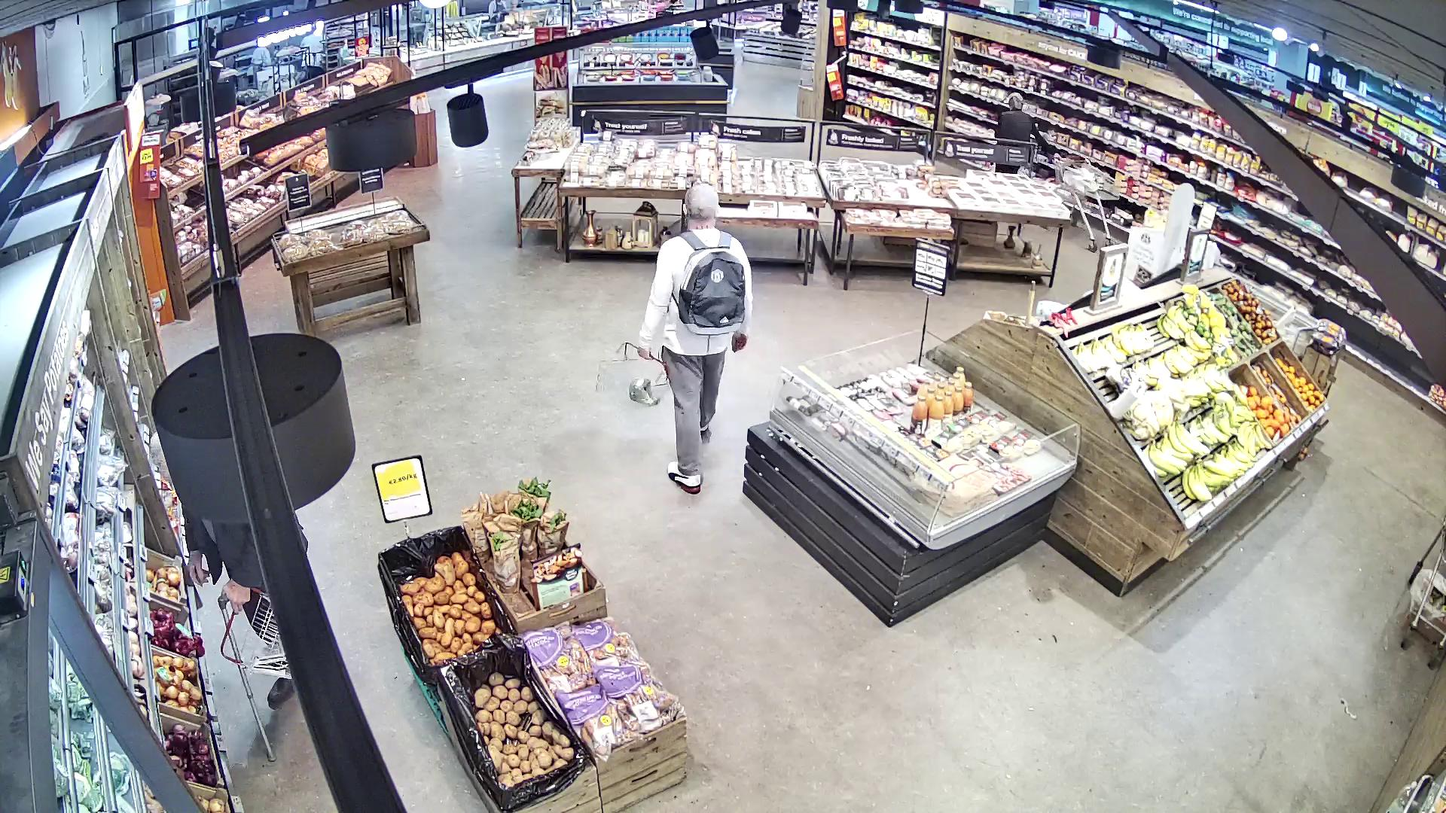backpack-or-handbag: (677, 243, 747, 336)
filled-basket: (595, 341, 673, 409)
filled-trolly: (1048, 154, 1122, 251)
person: (638, 184, 753, 494), (995, 93, 1061, 173)
person-with-basket-trolly-and-backpack-handbag: (594, 184, 753, 495)
person-with-filled-basket-trolly: (994, 92, 1122, 251)
